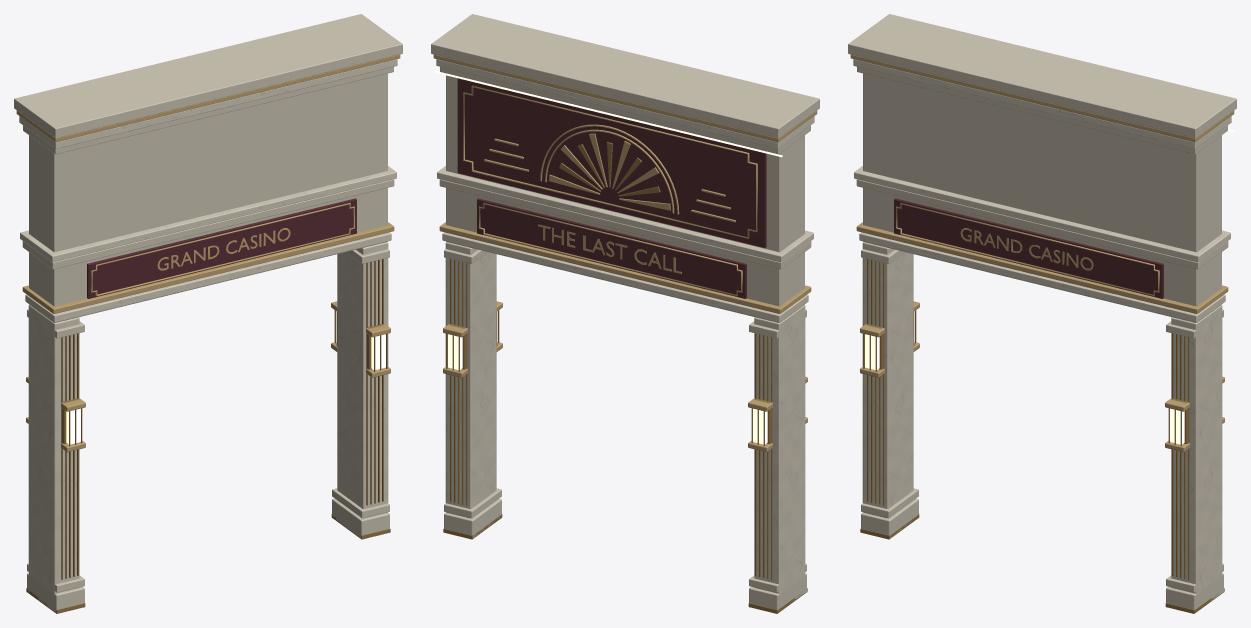
Rendered from casino-deco-portal-lounge.glb.
The picture shows the model from 3 angles, left to right: view 1: azimuth 30°, elevation 25°; view 2: azimuth 150°, elevation 25°; view 3: azimuth 330°, elevation 25°; orthographic projection.
Visible parts, largest first — view 1: portal-lounge / Entry carved limestone, portal-lounge / Entry ivory marble, portal-lounge / Entry smoky oxblood lacquer, portal-lounge / Entry champagne brass, portal-lounge / Entry aged bronze, portal-lounge / Entry warm opal; view 2: portal-lounge / Entry carved limestone, portal-lounge / Entry smoky oxblood lacquer, portal-lounge / Entry ivory marble, portal-lounge / Entry champagne brass, portal-lounge / Entry aged bronze, portal-lounge / Entry warm opal; view 3: portal-lounge / Entry carved limestone, portal-lounge / Entry ivory marble, portal-lounge / Entry smoky oxblood lacquer, portal-lounge / Entry champagne brass, portal-lounge / Entry aged bronze, portal-lounge / Entry warm opal.
Boxes of the visible parts, x1,y1,x2,y2 form: portal-lounge / Entry carved limestone: (14,14,402,612); portal-lounge / Entry ivory marble: (19,59,397,593); portal-lounge / Entry smoky oxblood lacquer: (87,198,356,298); portal-lounge / Entry champagne brass: (16,54,400,452); portal-lounge / Entry aged bronze: (26,259,390,613); portal-lounge / Entry warm opal: (17,129,385,444); portal-lounge / Entry carved limestone: (431,14,819,609); portal-lounge / Entry smoky oxblood lacquer: (457,78,766,298); portal-lounge / Entry ivory marble: (436,59,814,593); portal-lounge / Entry champagne brass: (433,54,817,452); portal-lounge / Entry aged bronze: (443,142,807,613); portal-lounge / Entry warm opal: (434,70,782,444); portal-lounge / Entry carved limestone: (848,14,1236,609); portal-lounge / Entry ivory marble: (853,59,1231,593); portal-lounge / Entry smoky oxblood lacquer: (894,198,1163,298); portal-lounge / Entry champagne brass: (850,54,1234,452); portal-lounge / Entry aged bronze: (860,259,1224,613); portal-lounge / Entry warm opal: (865,129,1233,444).
Bounding box in the file's own units: 5.04 × 6.8 × 1.04.
6 materials, 1 textured.
